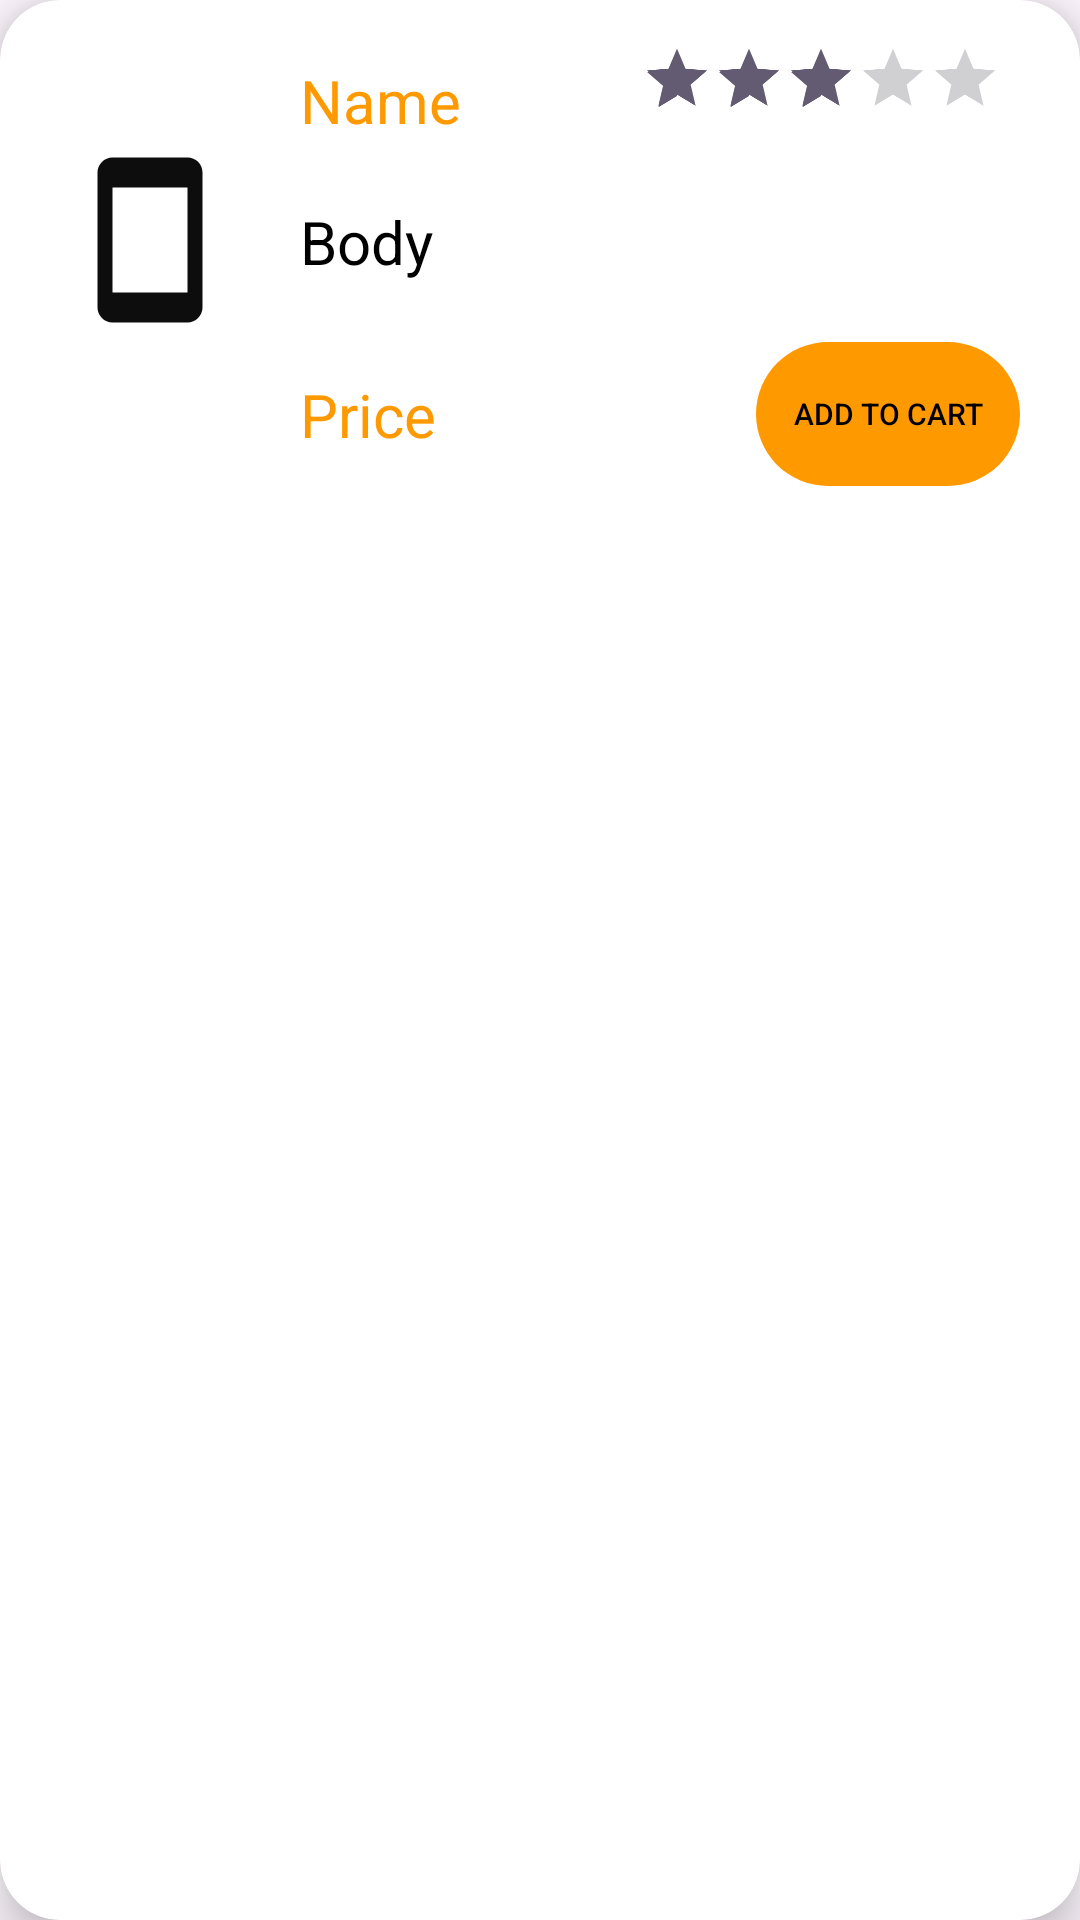

Icons on this 1080px x 1920px Android screen, each with its box as Rect(x1, y1, x2, y2):
smartphone: Rect(97, 157, 203, 323)
